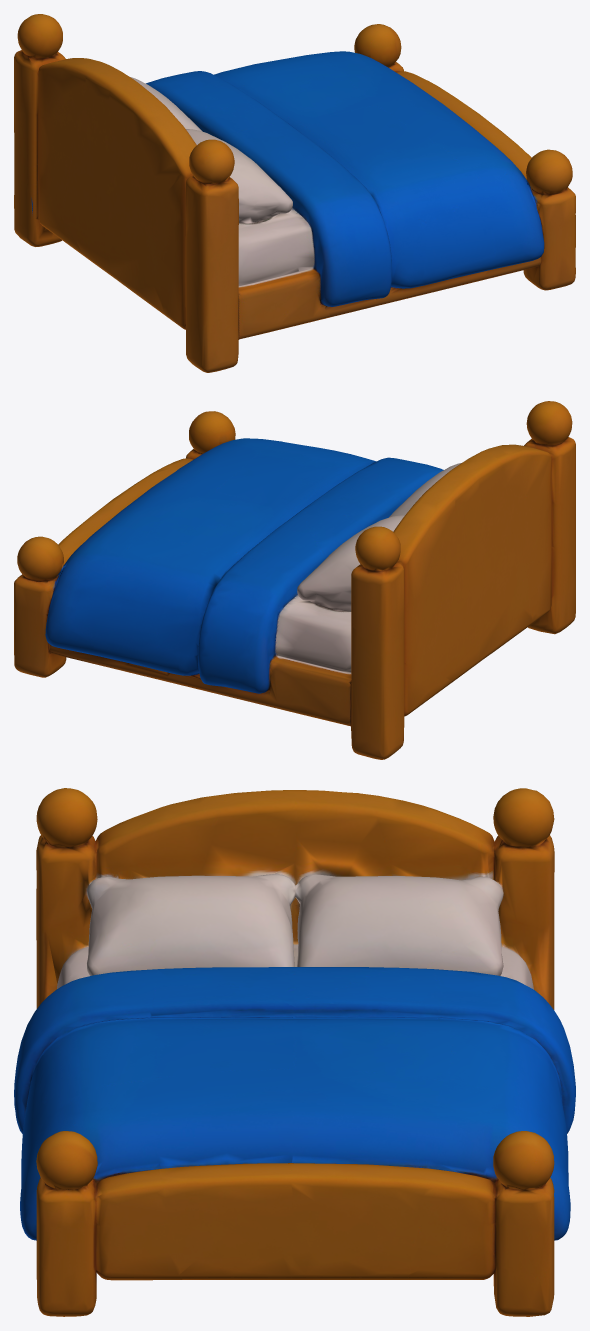
File: bed.glb
3 views of the same model, one above another, from view 1: azimuth 30°, elevation 25°; view 2: azimuth 150°, elevation 25°; view 3: azimuth 270°, elevation 25° (orthographic). The views are drawn at different scales.
Visible parts, largest first — view 1: tripo_node_5b5a801a-291d-4e53-bb8f-8c883f06ba3c; view 2: tripo_node_5b5a801a-291d-4e53-bb8f-8c883f06ba3c; view 3: tripo_node_5b5a801a-291d-4e53-bb8f-8c883f06ba3c.
Boxes of the visible parts, x1,y1,x2,y2 form: tripo_node_5b5a801a-291d-4e53-bb8f-8c883f06ba3c: (14, 14, 575, 372); tripo_node_5b5a801a-291d-4e53-bb8f-8c883f06ba3c: (14, 401, 575, 759); tripo_node_5b5a801a-291d-4e53-bb8f-8c883f06ba3c: (14, 788, 575, 1316).
Size of the model in its own units: 0.9999 by 0.5677 by 0.9669.
Materials: 1 (1 with a texture image).
